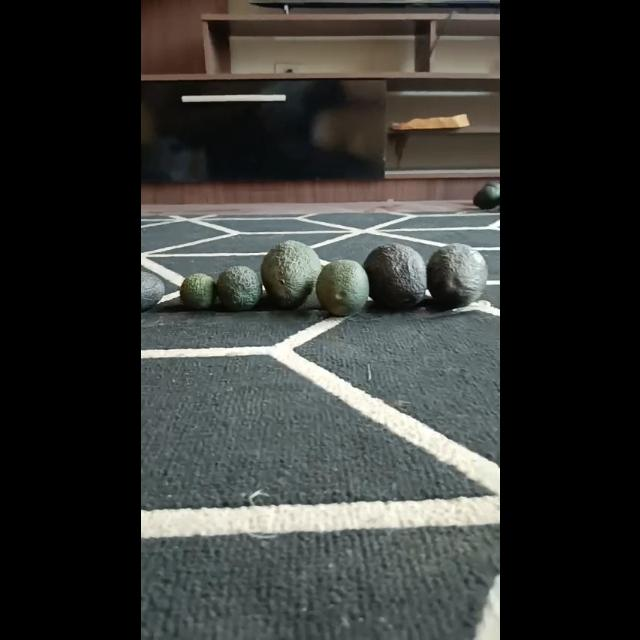Primera: (364, 243, 428, 309), (426, 242, 488, 308), (260, 240, 320, 308), (140, 270, 164, 312)
Segunda: (315, 258, 369, 316)
Tercera: (214, 264, 262, 312), (178, 272, 216, 310)
